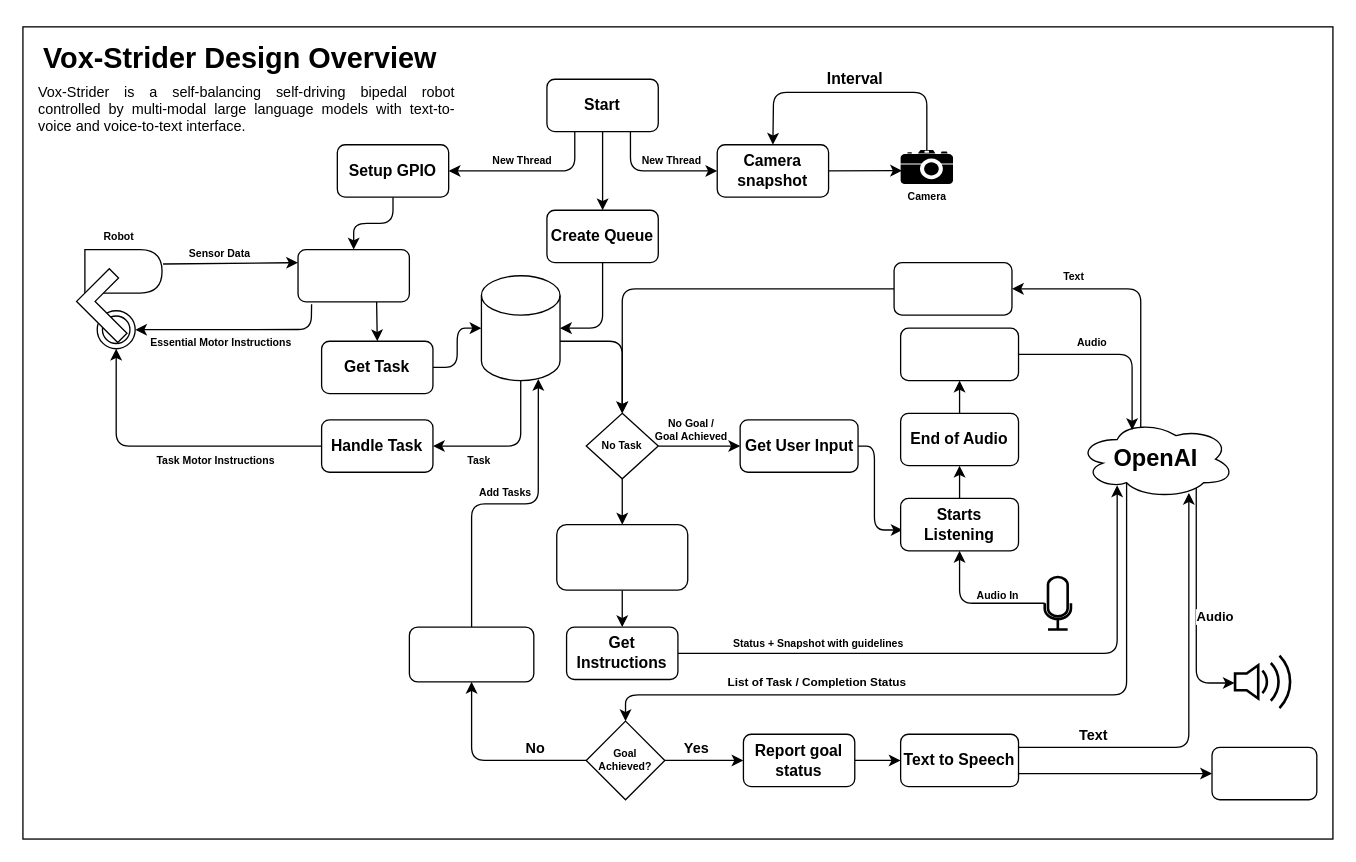
Some shapes in this 1356 by 862 pixel diagram are drawn without their labels. Each missing label, with the centre of its shape:
Add List of tasks to the queue: the point at 471,654
Clear Goal: the point at 1264,773
Command Queue: the point at 520,327
Create Goal: the point at 952,288
Robot Loop: the point at 353,275
Speech to Text: the point at 959,354
Update latest snapshot with guidelines: the point at 621,556
